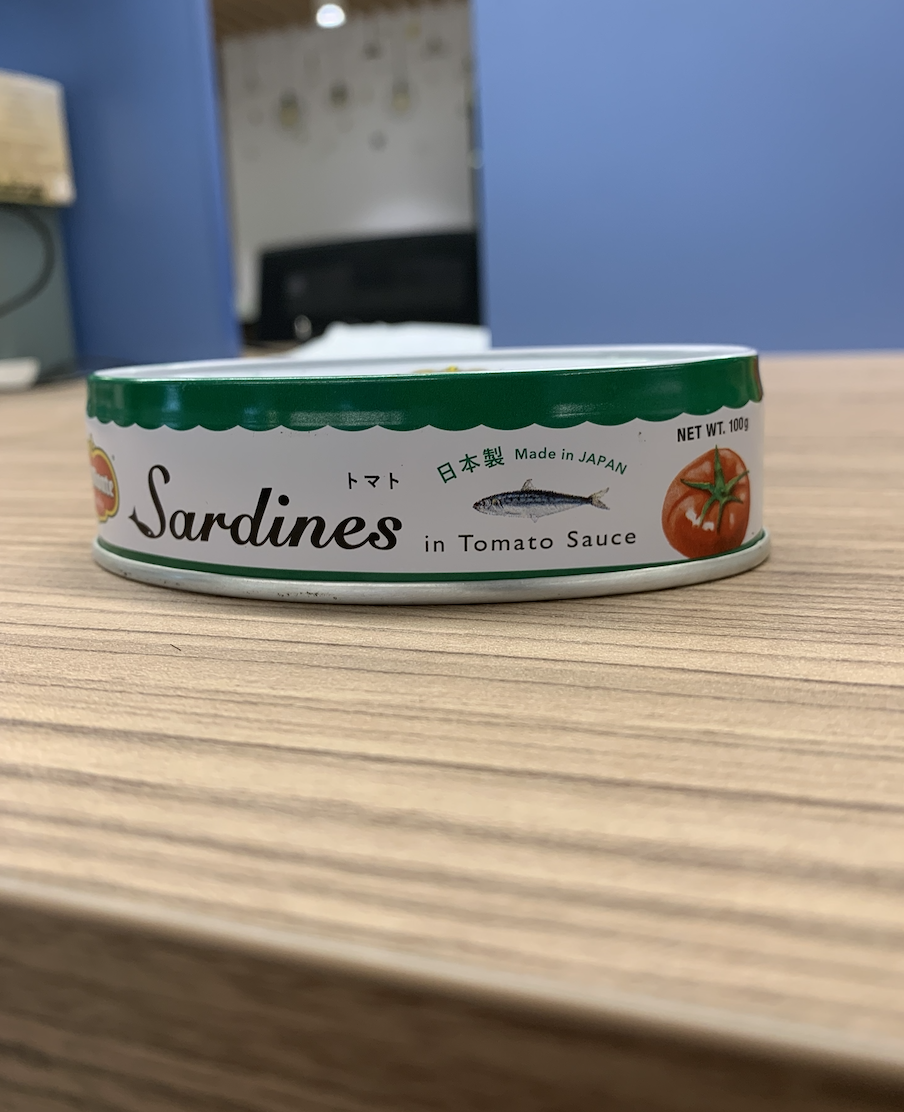sardines_100g-199g: (94, 385, 761, 557)
